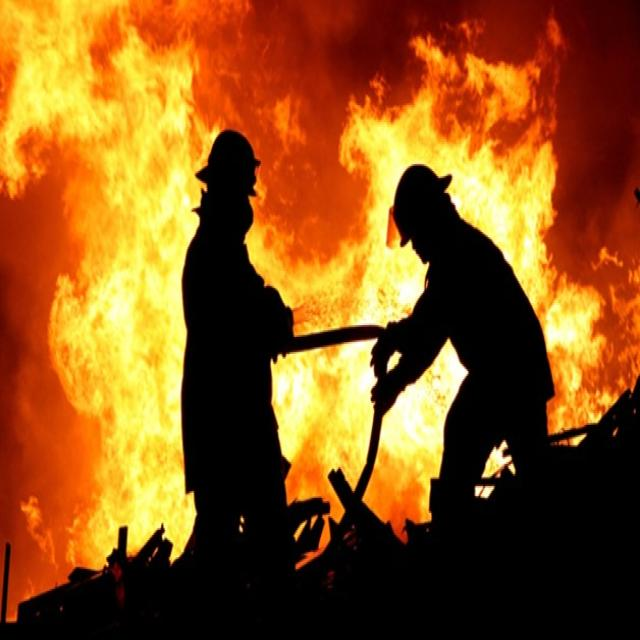fire: (1, 0, 640, 559)
person: (372, 156, 558, 545), (159, 115, 310, 567)
